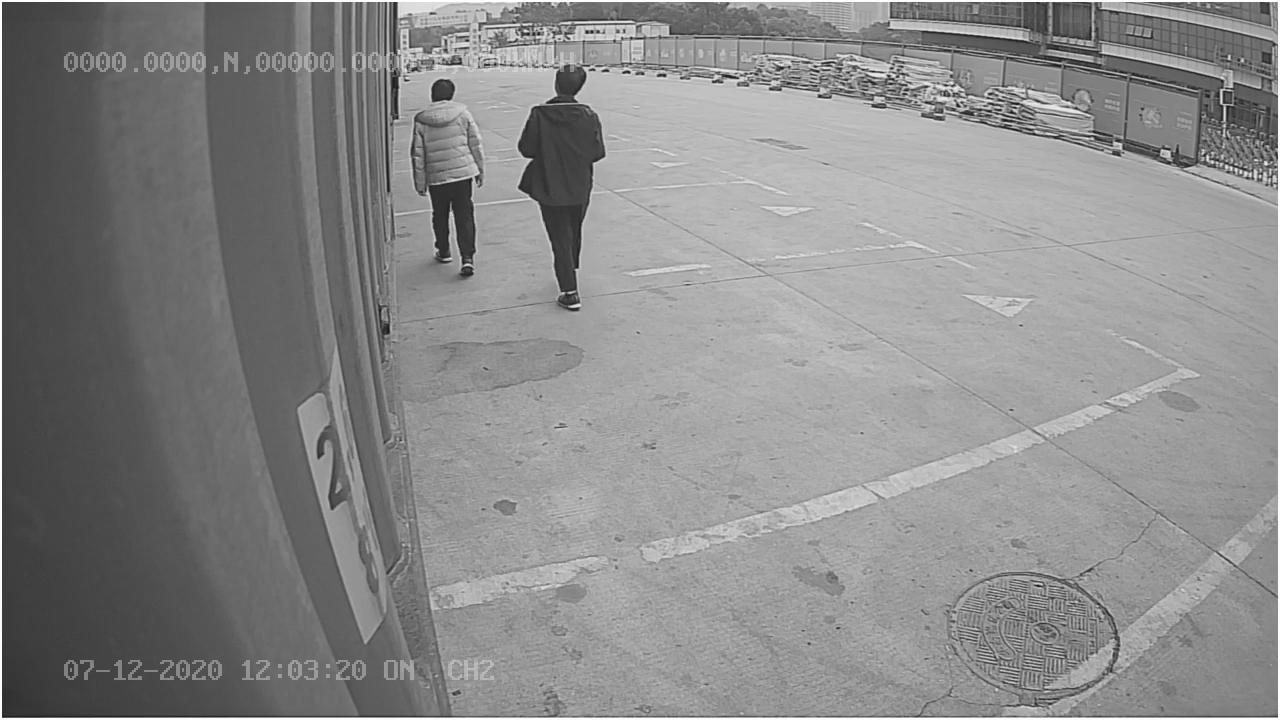person: (517, 55, 607, 313)
